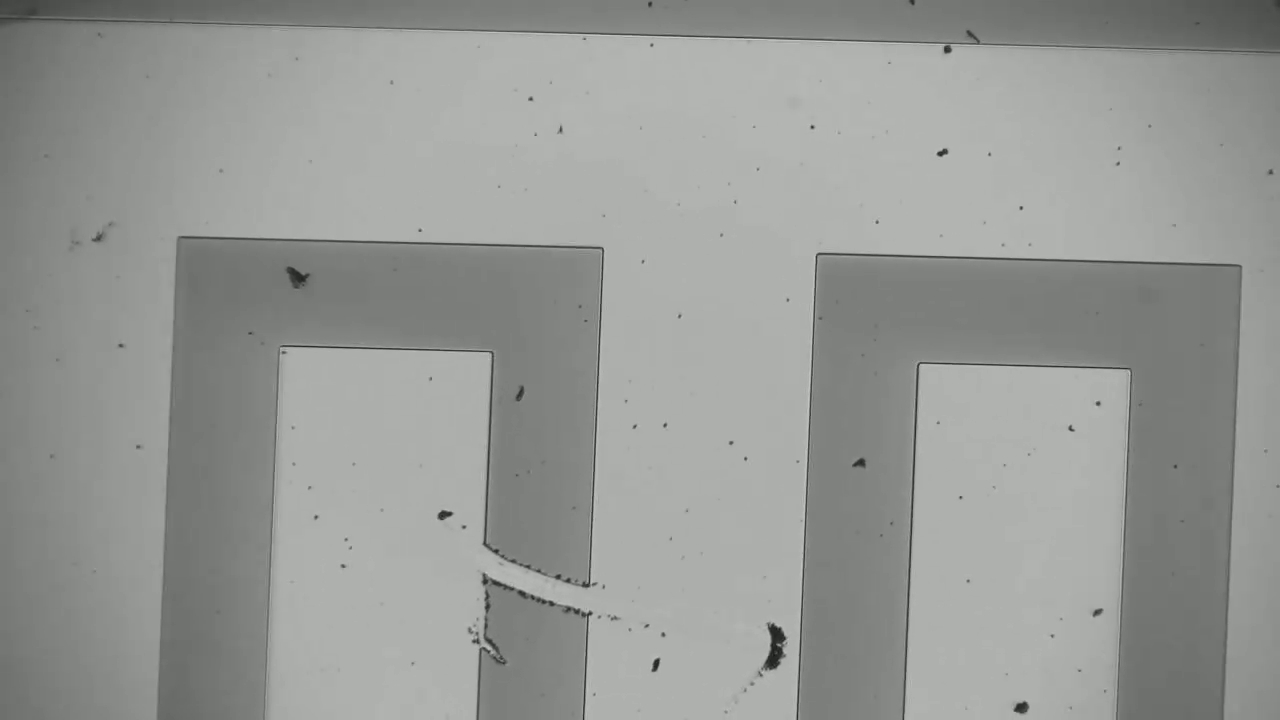Short_circuit: (467, 521, 645, 625)
